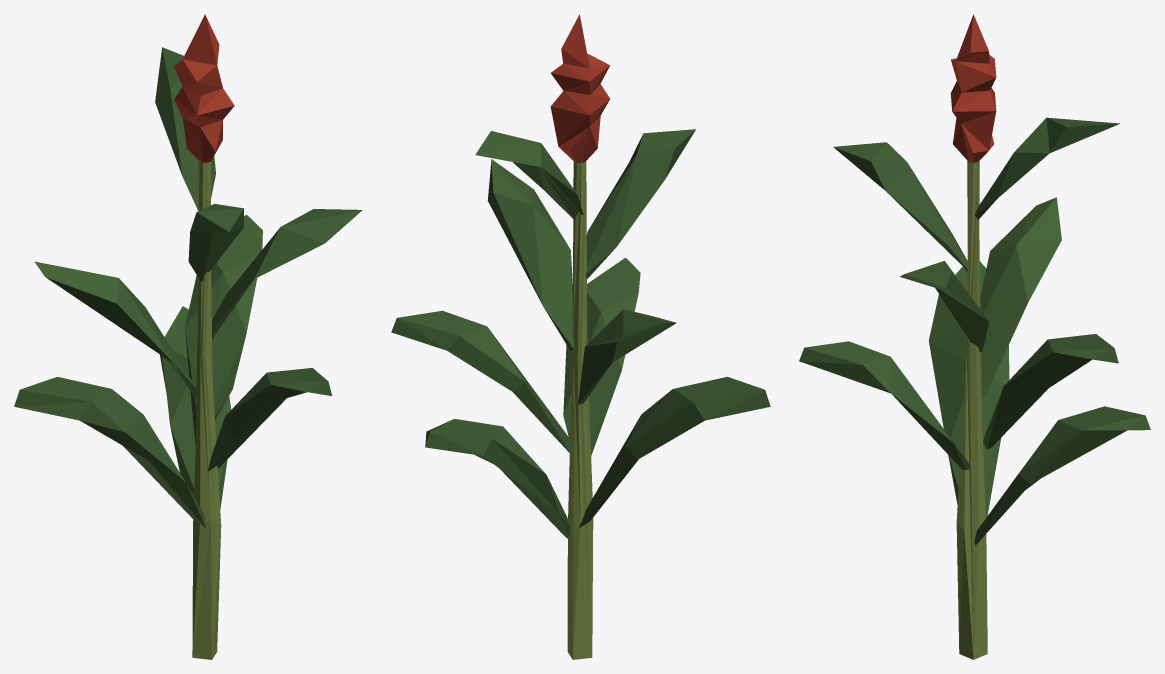
The model's file is SM_Env_Flowers_01.glb.
The picture shows the model from 3 angles, left to right: view 1: azimuth 30°, elevation 25°; view 2: azimuth 150°, elevation 25°; view 3: azimuth 270°, elevation 25°; orthographic projection.
Parts seen in each view (by area): view 1: SM_Env_Flowers_01_part00; view 2: SM_Env_Flowers_01_part00; view 3: SM_Env_Flowers_01_part00.
Part boxes in pixels (x1,y1,x2,y2): SM_Env_Flowers_01_part00: (14, 14, 362, 659); SM_Env_Flowers_01_part00: (391, 14, 770, 659); SM_Env_Flowers_01_part00: (799, 14, 1150, 659).
Bounding box in the file's own units: 0.7115 × 1.39 × 0.6911.
1 material, 1 textured.
